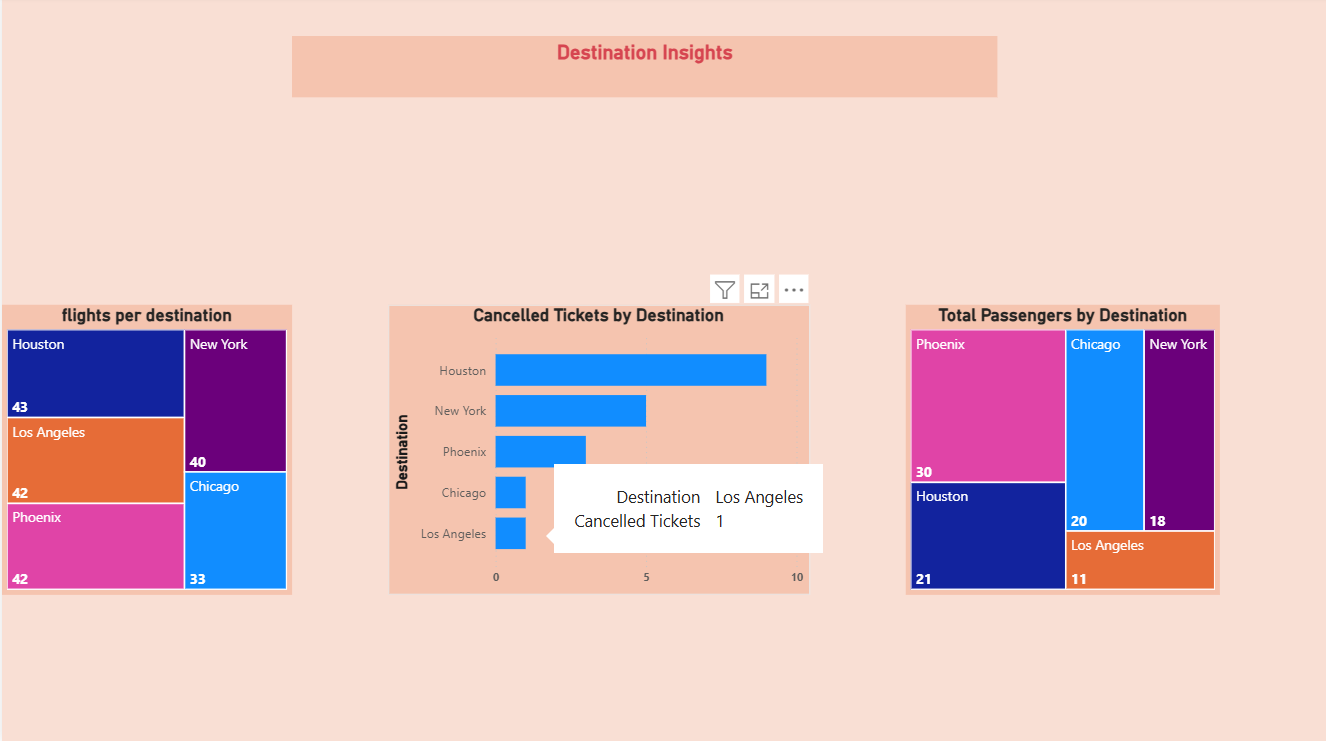

This screenshot's page, from the dashboard's own definition file:
{"tool":"powerbi","page":{"name":"Destination insights","canvas":[1280,720],"ordinal":4},"visuals":[{"type":"treemap","title":"flights per destination","fields":{"Group":["flight_information.Destination"],"Values":["CountNonNull(flight_information.FlightID)"]},"box":[0,298.5,279.9,279.9],"z":0},{"type":"treemap","fields":{"Group":["flight_information.Destination"],"Values":["flight_information.Total Passengers"]},"box":[871.8,298.5,303.4,279.9],"z":1000},{"type":"barChart","fields":{"Category":["flight_information.Destination"],"Y":["flight_information.Cancelled Tickets"]},"box":[372.8,298.5,406.2,279.9],"z":2000},{"type":"textbox","box":[279.9,38.4,681.1,59.4],"z":3000}]}

Visuals, with their boxes in screenshot pixels (x1, y1, x2, y2), scaled from the page's 1280x720 canvas onto the 1326x741 screenshot:
"flights per destination" treemap: (x1=0, y1=307, x2=290, y2=595)
treemap - flight_information.Destination x flight_information.Total Passengers: (x1=903, y1=307, x2=1217, y2=595)
barChart - flight_information.Destination x flight_information.Cancelled Tickets: (x1=386, y1=307, x2=807, y2=595)
textbox: (x1=290, y1=40, x2=996, y2=101)
